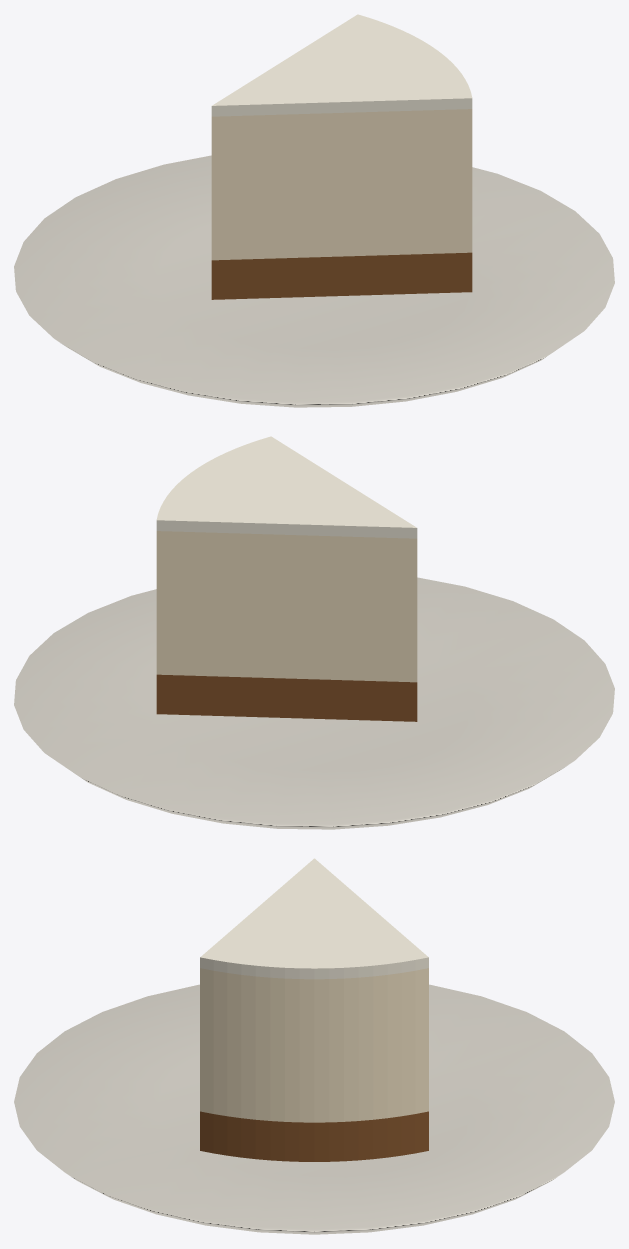
File: cheesecake.glb
3 renders of one model, top to bottom at view 1: azimuth 30°, elevation 25°; view 2: azimuth 150°, elevation 25°; view 3: azimuth 270°, elevation 25°, orthographic.
Visible parts, largest first — view 1: cheesecake; view 2: cheesecake; view 3: cheesecake.
Part boxes in pixels (bbox=[...]): cheesecake: bbox=[14, 14, 614, 407]; cheesecake: bbox=[14, 436, 614, 829]; cheesecake: bbox=[14, 858, 614, 1234].
Size of the model in its own units: 0.152 by 0.0575 by 0.152.
